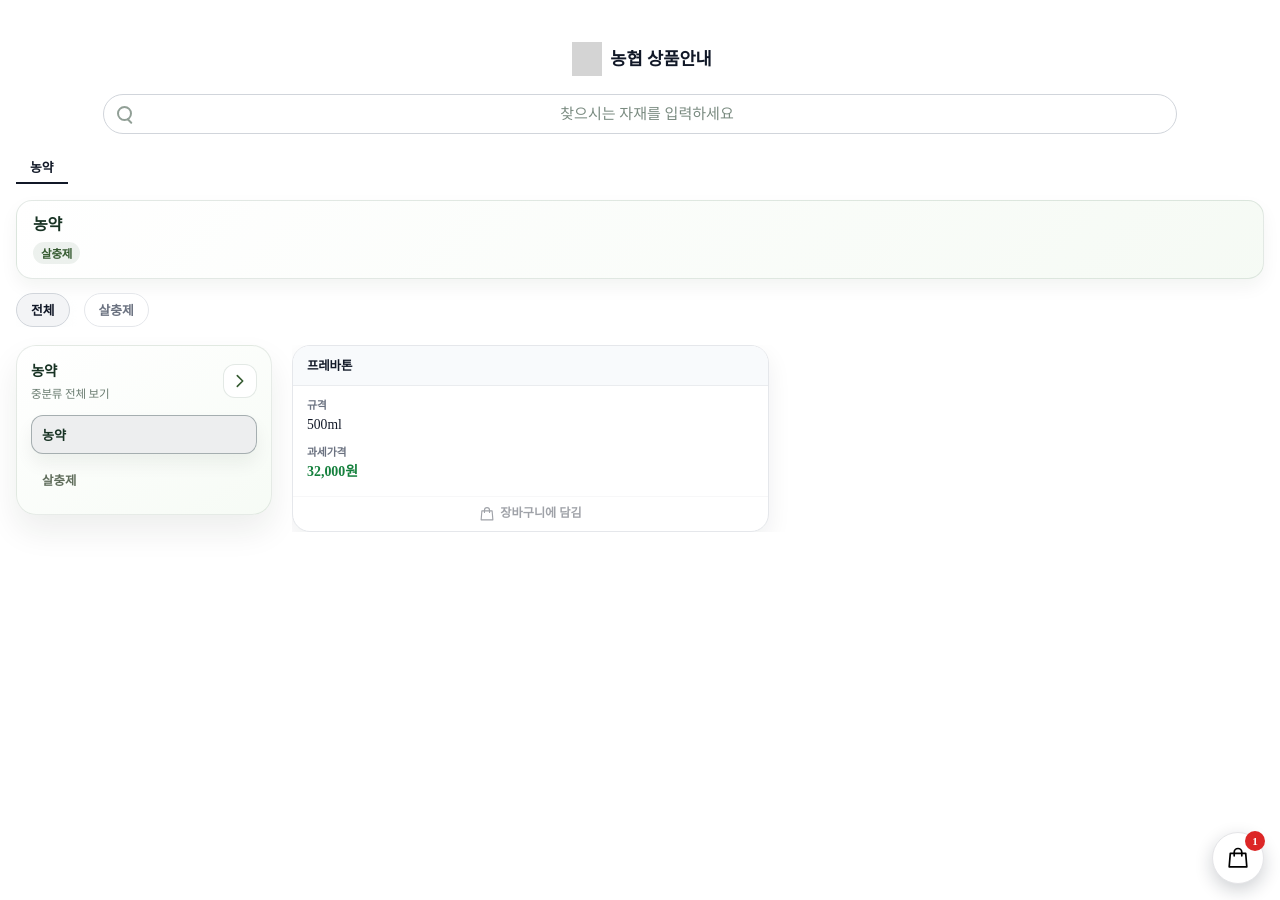
Test: 장바구니는 카드가 감춘 가격을 보여주지 않는다 › hides a price the merchant turned off, even though the data has it
The width and height of the screenshot is (1280, 900).
Click the button named "장바구니 열기" at (1238, 858), box [1212,832,1264,884]
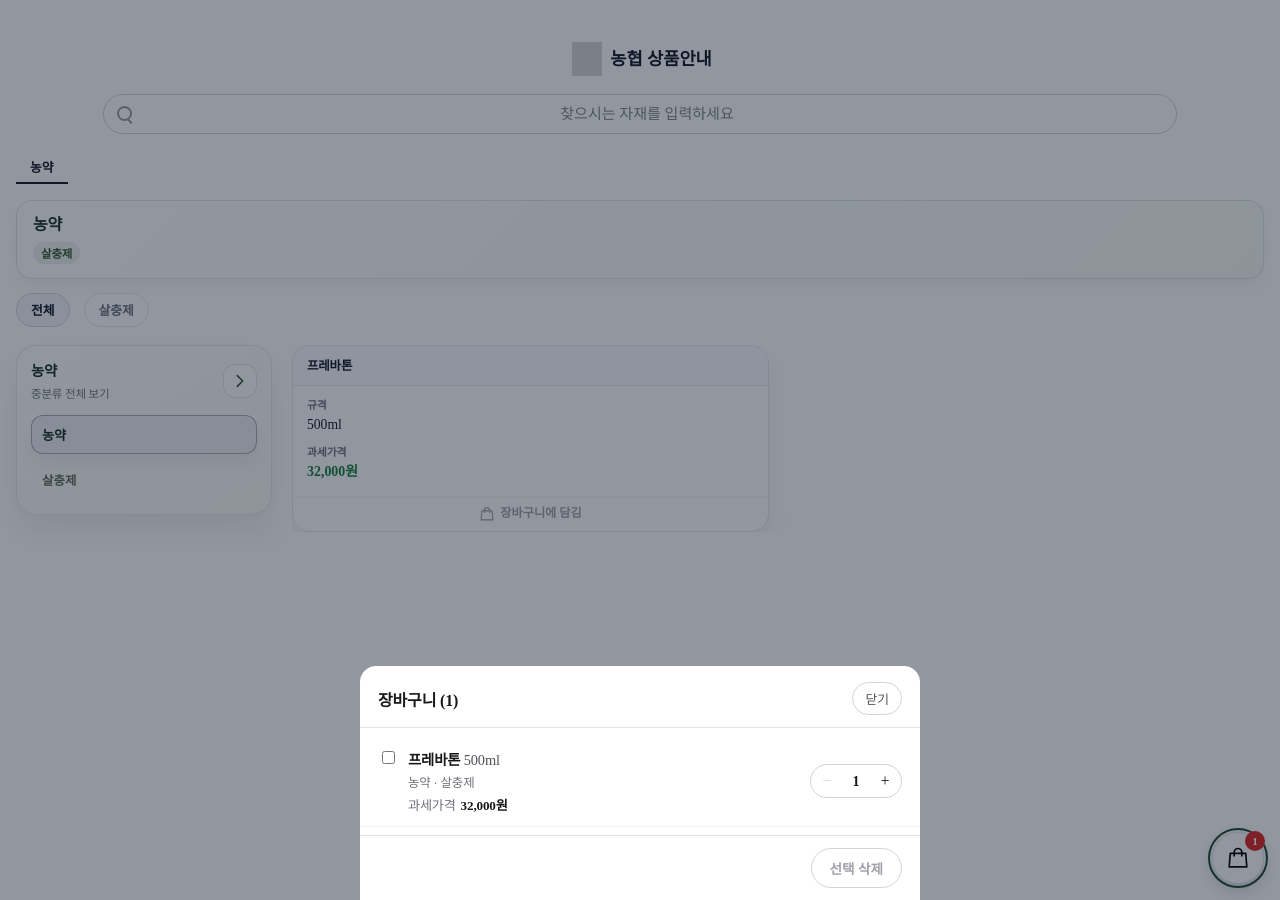
Now the text "과세가격" is shown, box [408,795,456,814]
